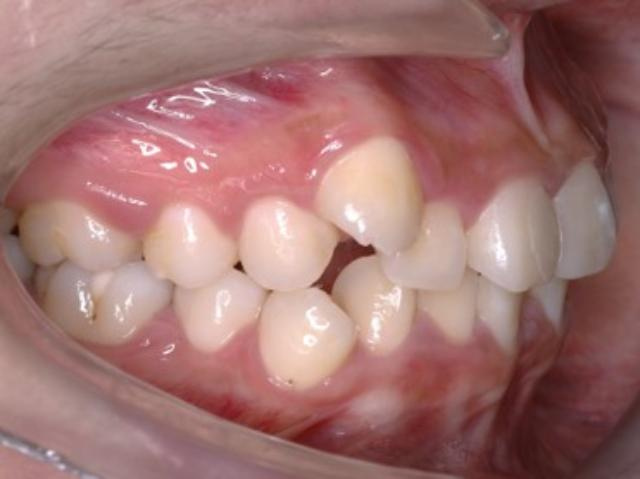canine class II 1/2: (263, 129, 423, 401)
molar class I: (18, 192, 172, 352)
